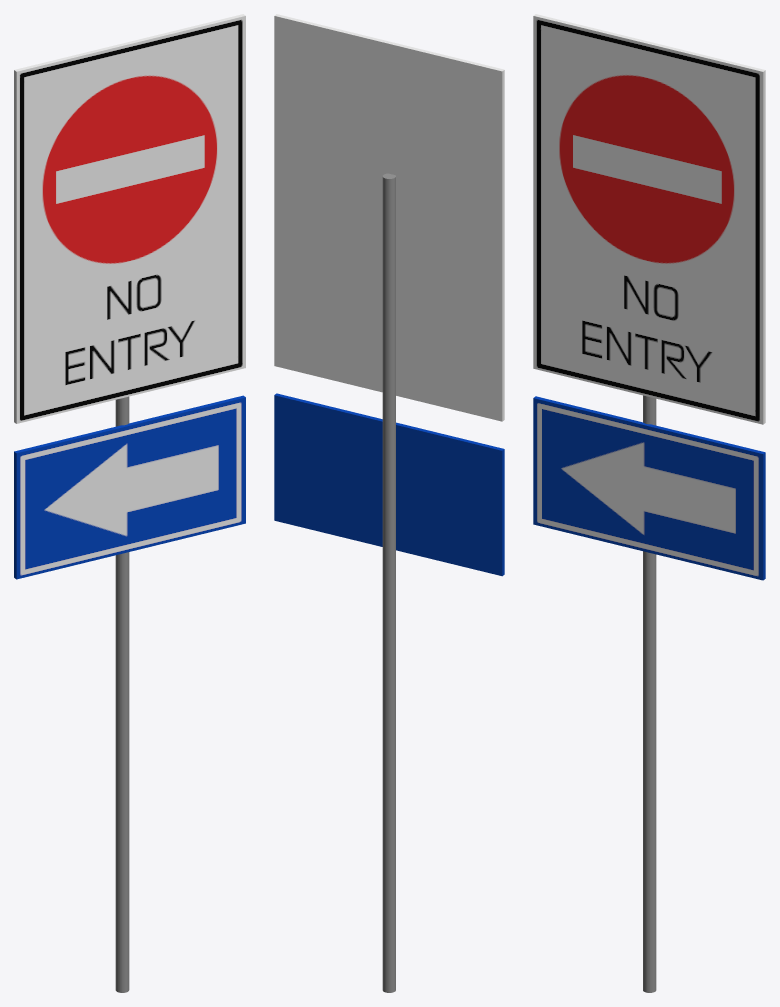
File: Traffic Sign_Rectangles_1obj.fbx
The picture shows the model from 3 angles, left to right: view 1: azimuth 30°, elevation 25°; view 2: azimuth 150°, elevation 25°; view 3: azimuth 330°, elevation 25°; orthographic projection.
Visible parts, largest first — view 1: Cube.001; view 2: Cube.001; view 3: Cube.001.
Part boxes in pixels (x1,y1,x2,y2): Cube.001: (14,14,245,992); Cube.001: (274,14,504,992); Cube.001: (533,14,765,992).
Bounding box in the file's own units: 200 × 791 × 12.73.
